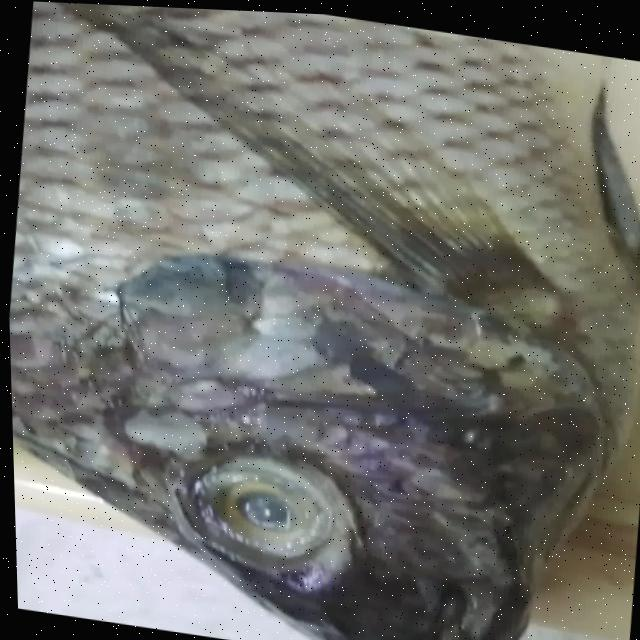Non-Fresh: (170, 434, 374, 583)
